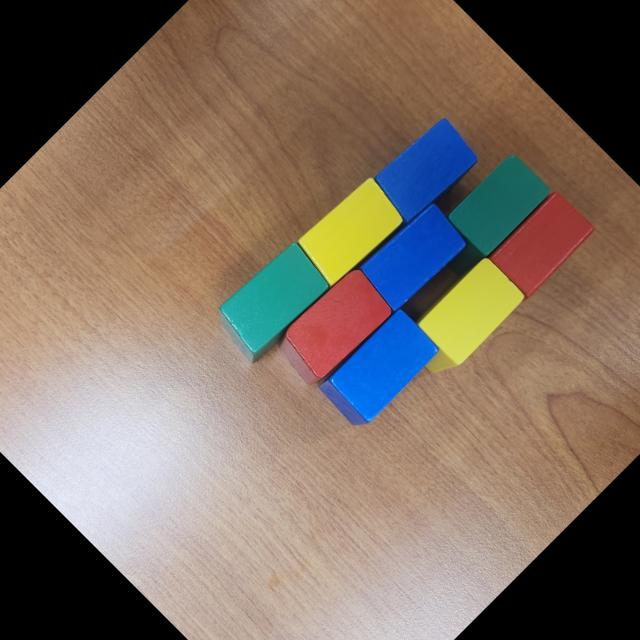blue: (313, 304, 443, 434), (364, 111, 485, 232), (352, 194, 473, 315)
green: (418, 150, 554, 284), (208, 234, 338, 366)
red: (268, 262, 398, 392), (486, 187, 599, 300)
yellow: (396, 254, 528, 386), (288, 172, 409, 293)
